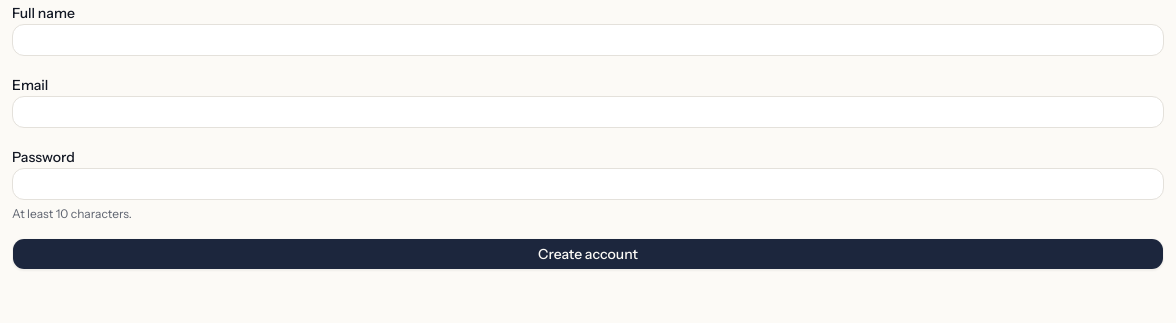
Test: RegisterForm › shows a mapped message and stays on the page for other errors
Type "Asha Rao" into the field labelled "Full name" at (588, 40), box [12, 24, 1164, 56]
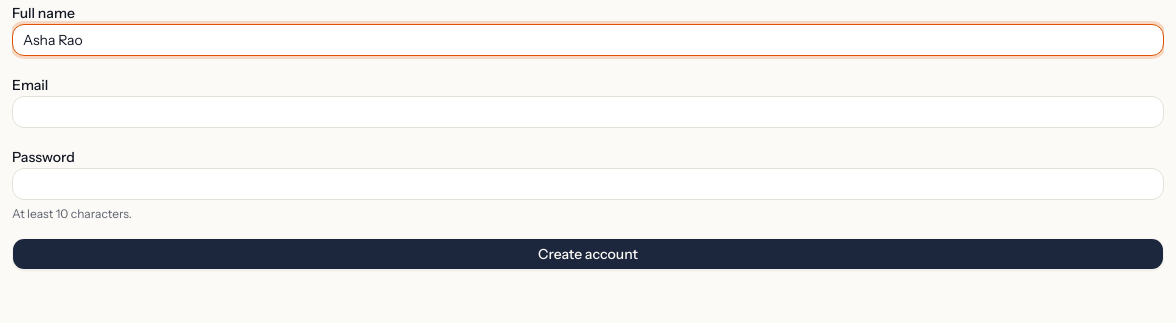
Type "asha@example.test" into the field labelled "Email" at (588, 112), box [12, 96, 1164, 128]
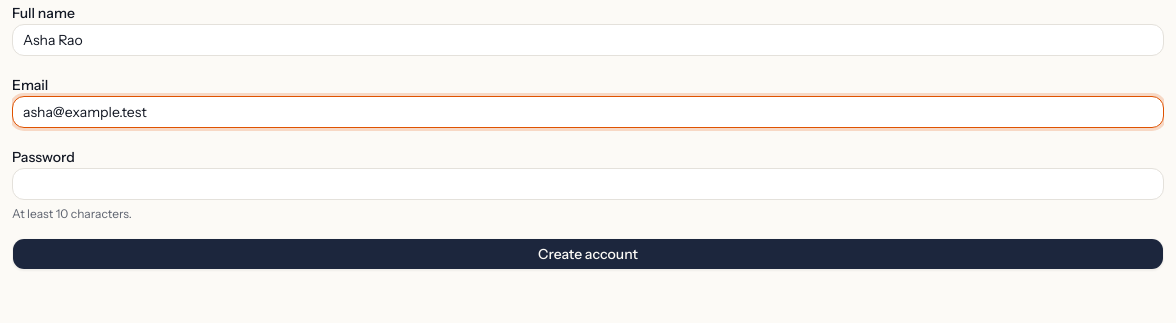
Type "correct-horse-battery" into the password field labelled "Password" at (588, 184), box [12, 168, 1164, 200]
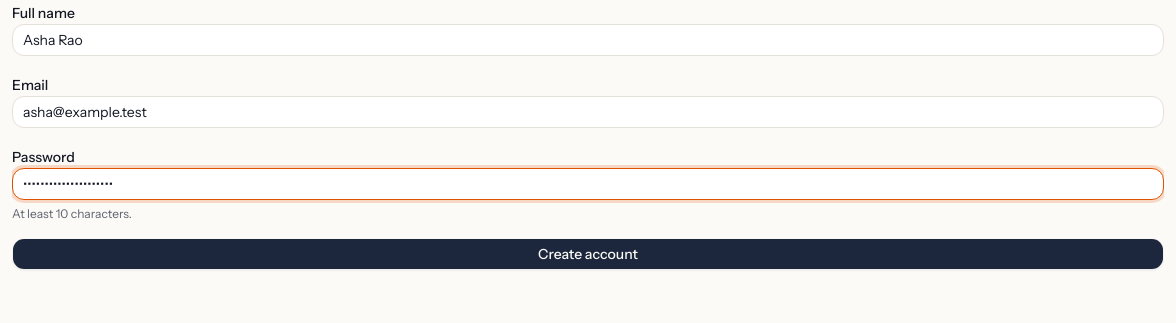
Click the button "Create account" at (588, 254), box [12, 238, 1164, 270]
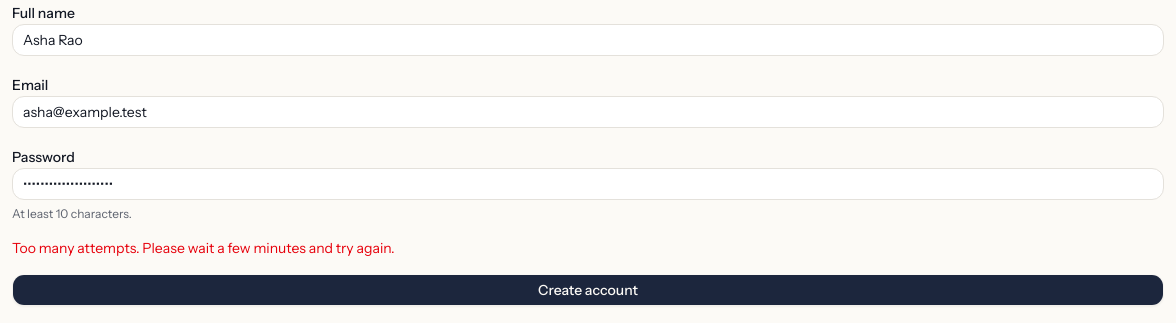
Expected: the message shows "Too many", [12, 239, 395, 257]
